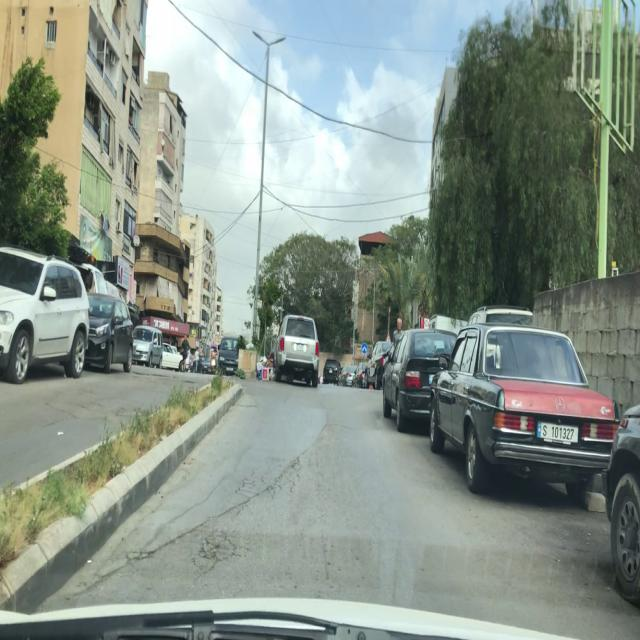Pothole: (132, 370, 170, 380), (180, 380, 197, 385)
